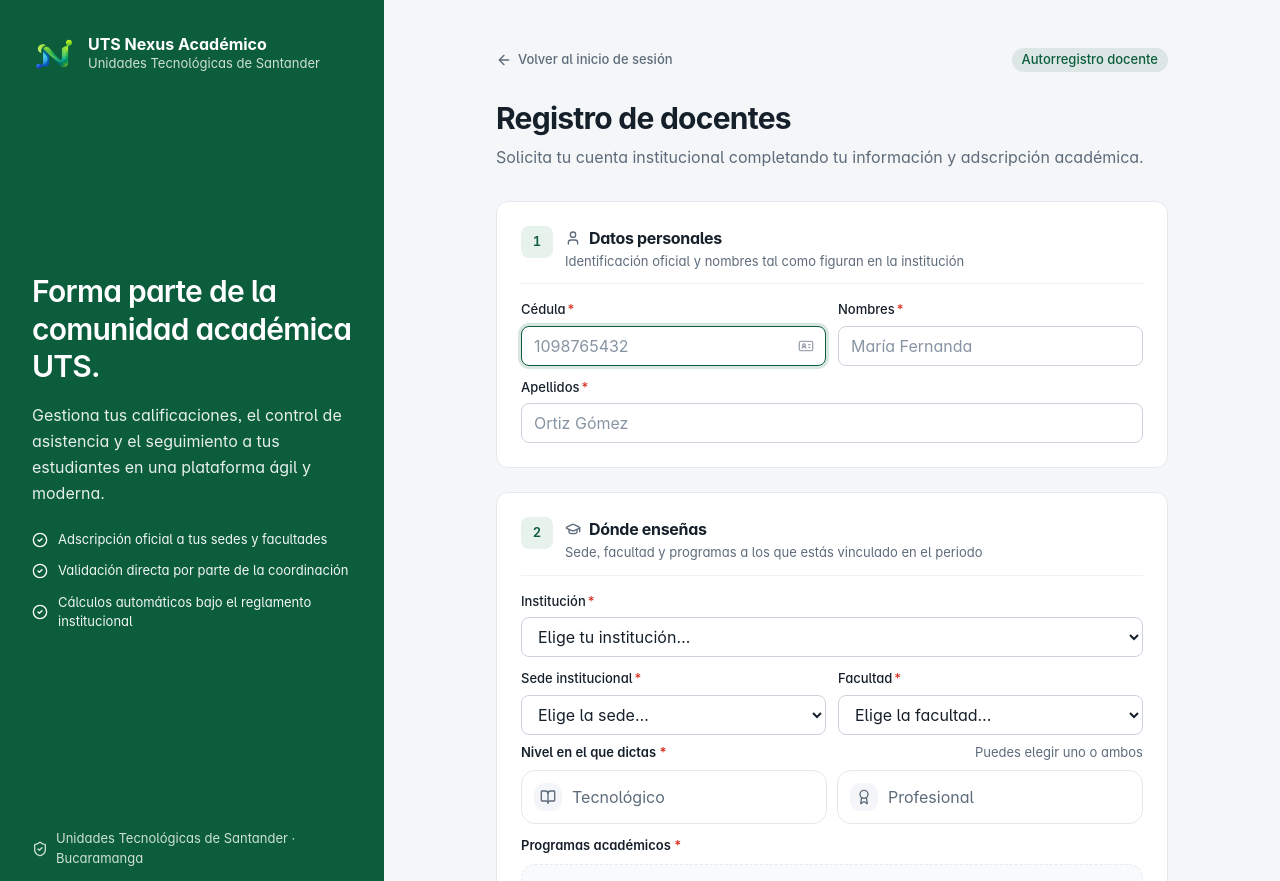
Scenario: pantalla de registro de docentes › ofrece un selector cuando el catálogo trae instituciones, y "otra" abre el texto libre
Expected: the heading "Registro de docentes" is shown, x1=496 y1=100 x2=791 y2=136
Expected: the field with placeholder "Nombre de tu institución" is not shown
Step 1. Select "Unidades Tecnológicas de Santander" in the dropdown labelled "Institución*" → (832,637), box x1=521 y1=617 x2=1143 y2=657
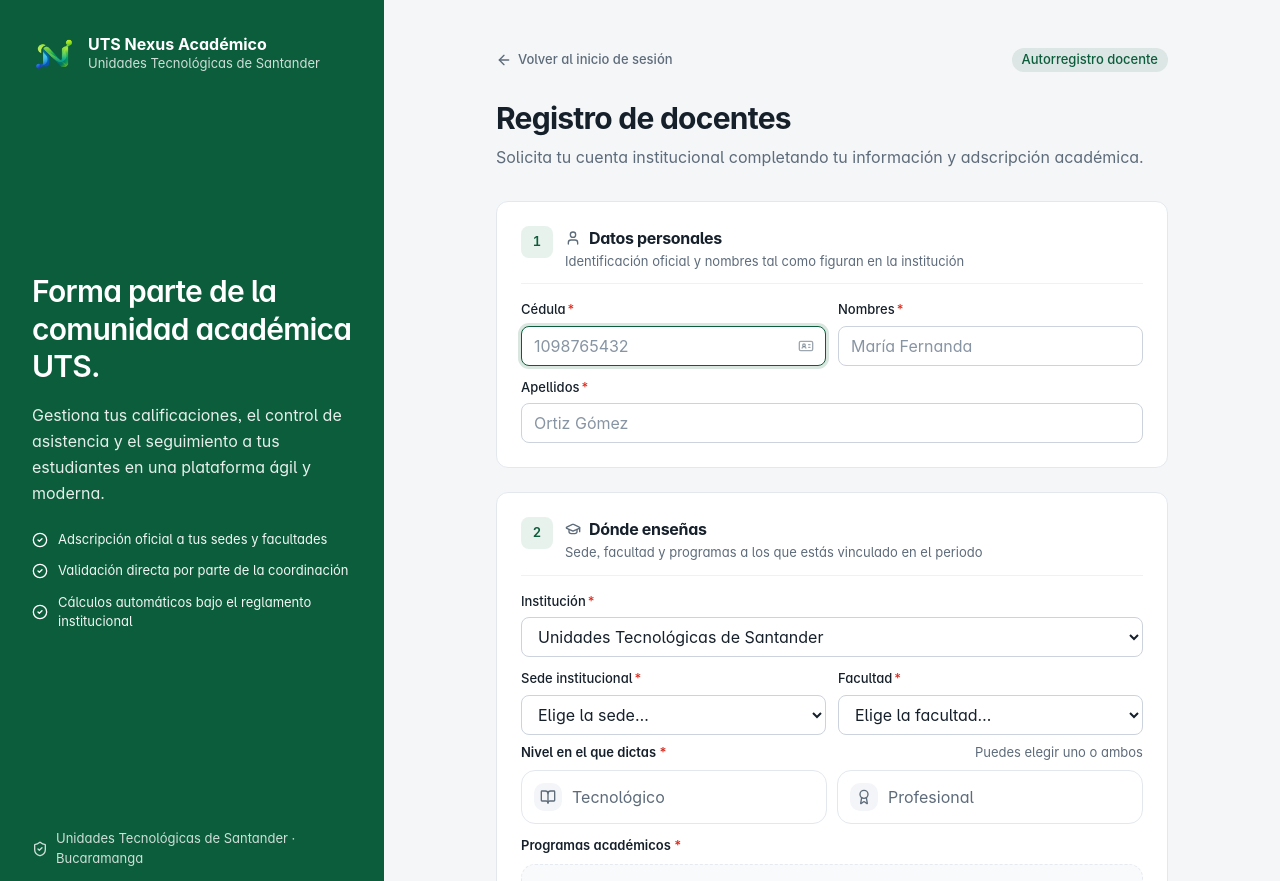
Expected: the field with placeholder "Escribe el nombre de tu institución" is not shown
Step 2. Select "Otra institución (no está en la lista)" in the dropdown labelled "Institución*" → (832,637), box x1=521 y1=617 x2=1143 y2=657
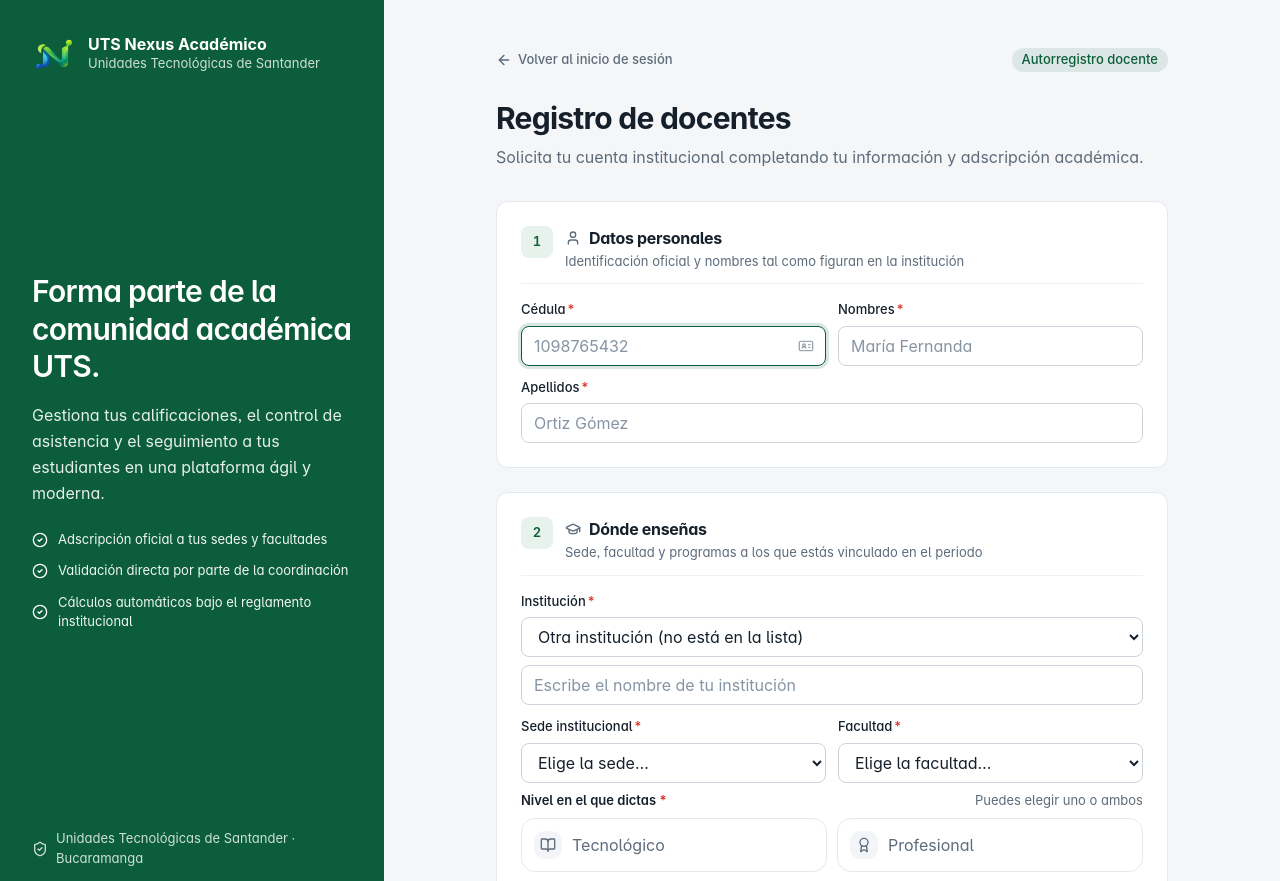
Now the field with placeholder "Escribe el nombre de tu institución" is shown, box x1=521 y1=665 x2=1143 y2=705
